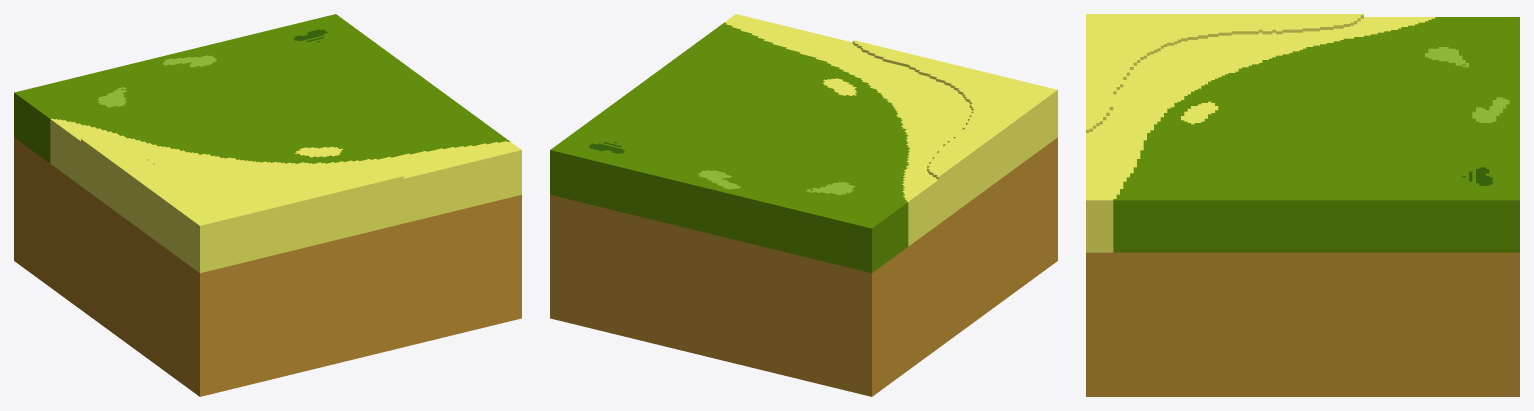
The picture shows the model from 3 angles, left to right: view 1: azimuth 30°, elevation 25°; view 2: azimuth 150°, elevation 25°; view 3: azimuth 270°, elevation 25°; orthographic projection. The views are drawn at different scales.
Parts seen in each view (by area): view 1: 2L; view 2: 2L; view 3: 2L.
Boxes of the visible parts, x1=… form: 2L: x1=14, y1=14, x2=521, y2=396; 2L: x1=550, y1=14, x2=1057, y2=396; 2L: x1=1086, y1=14, x2=1519, y2=396.
Bounding box in the file's own units: 12.8 × 6.5 × 12.8.
Materials: 1 (1 with a texture image).
